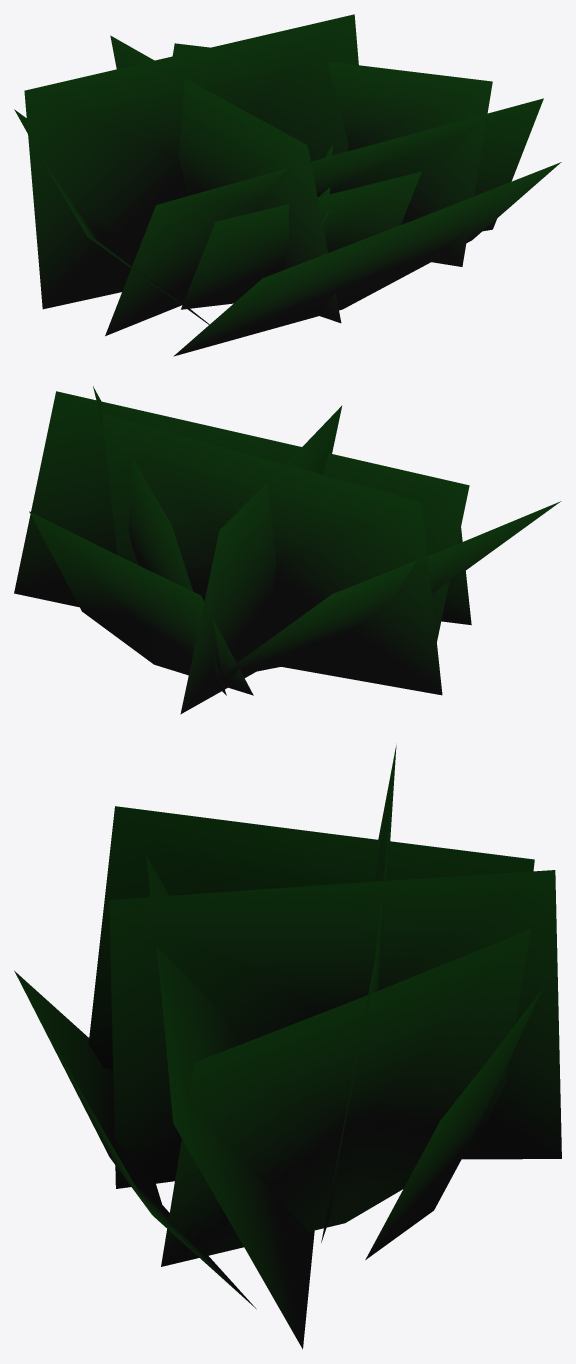
File: WeatStalkShortRHEP_B.fbx
3 views of the same model, one above another, from view 1: azimuth 30°, elevation 25°; view 2: azimuth 150°, elevation 25°; view 3: azimuth 270°, elevation 25° (orthographic). The views are drawn at different scales.
Parts seen in each view (by area): view 1: WeatStalkShortB_LOD0; view 2: WeatStalkShortB_LOD0; view 3: WeatStalkShortB_LOD0.
Part boxes in pixels (box(x1,y1,x2,y2)): WeatStalkShortB_LOD0: box(14, 14, 561, 356); WeatStalkShortB_LOD0: box(14, 386, 561, 714); WeatStalkShortB_LOD0: box(14, 745, 561, 1349).
Size of what is drawn, in the model's own units: 2.18 by 0.9676 by 1.51.
